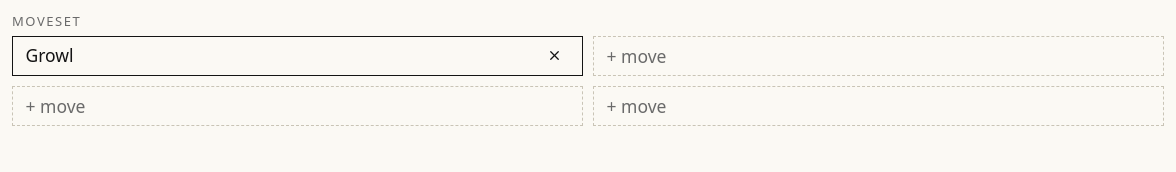
MovesetField › does not suggest a move that is already chosen
Step 1. Type "gro" into the 1st dropdown with placeholder "+ move" → coordinates (878, 56), box [593,36,1164,76]
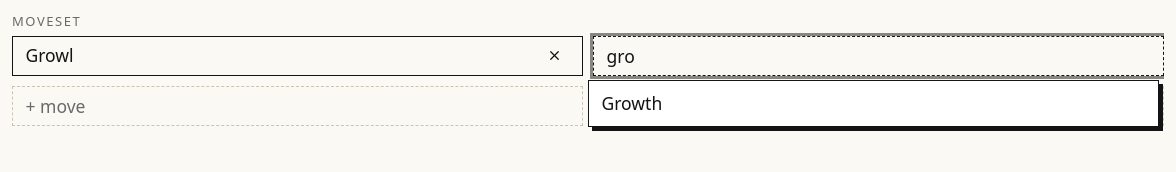
Expected: the option "Growth" is shown, [602,91,662,115]
